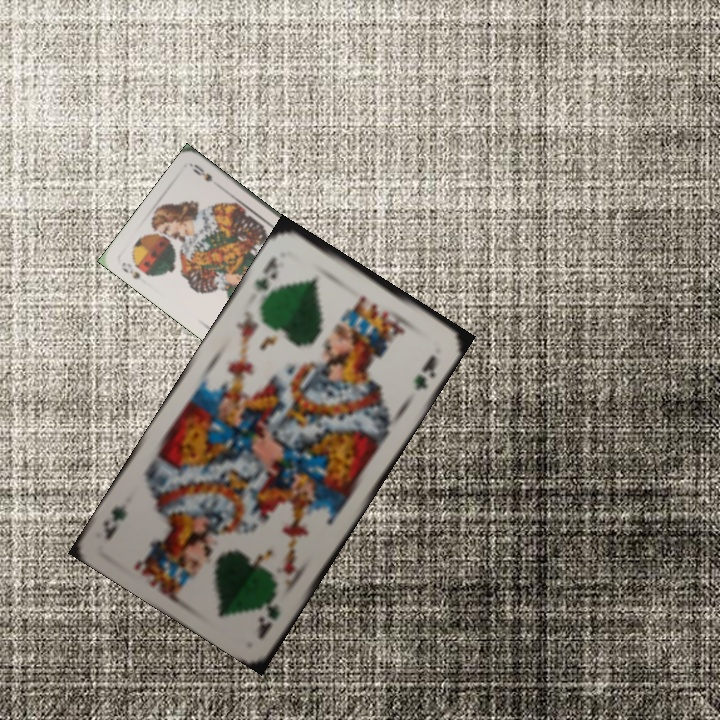GK: (253, 588, 282, 642), (250, 252, 282, 295)
SO: (117, 258, 143, 282)
